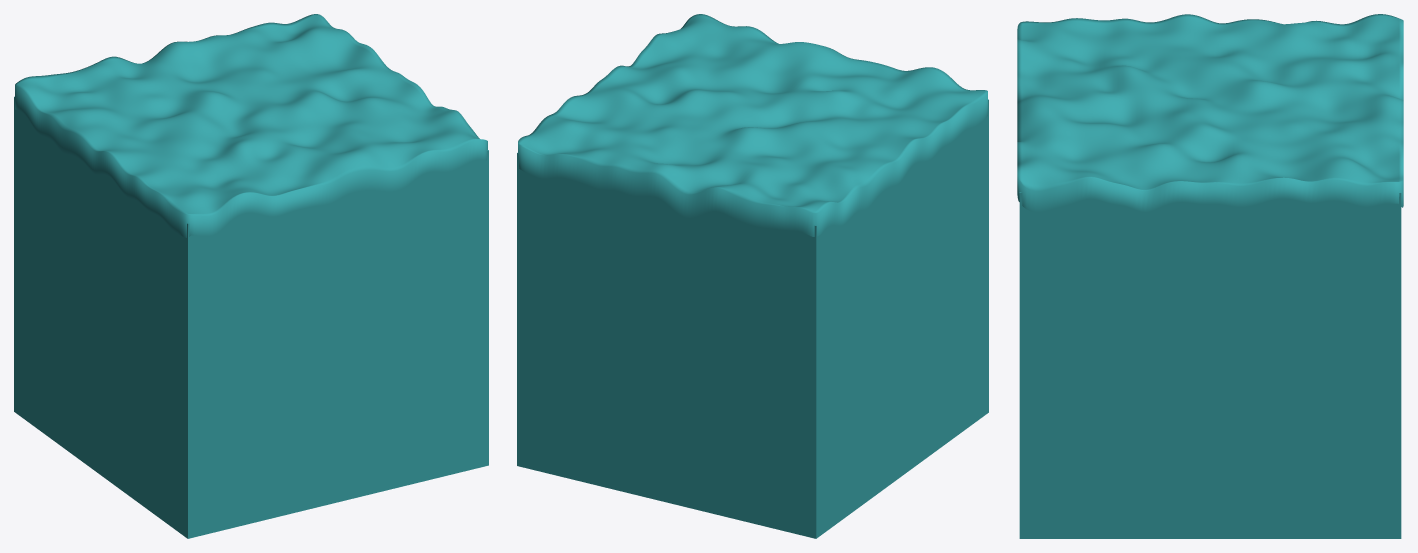
File: Water1.0.fbx
The picture shows the model from 3 angles, left to right: view 1: azimuth 30°, elevation 25°; view 2: azimuth 150°, elevation 25°; view 3: azimuth 270°, elevation 25°; orthographic projection. The views are drawn at different scales.
Visible parts, largest first — view 1: Water, Plane; view 2: Water, Plane; view 3: Water, Plane.
Part boxes in pixels (x1,y1,x2,y2): Water: (14,96,488,538); Plane: (15,14,487,237); Water: (517,99,988,538); Plane: (518,14,987,236); Water: (1019,192,1401,538); Plane: (1017,14,1403,212).
Bounding box in the file's own units: 1012 × 1062 × 1012.
